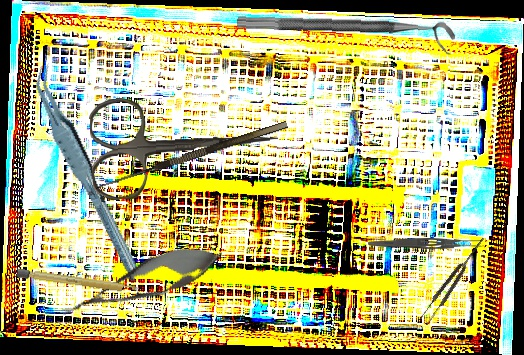Dressing Forceps: (367, 236, 484, 252)
Fixation Ring: (236, 15, 456, 55)
Hook Surgical: (94, 120, 292, 201)
Iris Scissors: (88, 90, 281, 201)
Micro Scissor: (52, 231, 230, 334)
Scalpel Handle: (15, 268, 142, 295)
Tissue Forceps: (28, 57, 141, 285), (417, 234, 490, 326)
